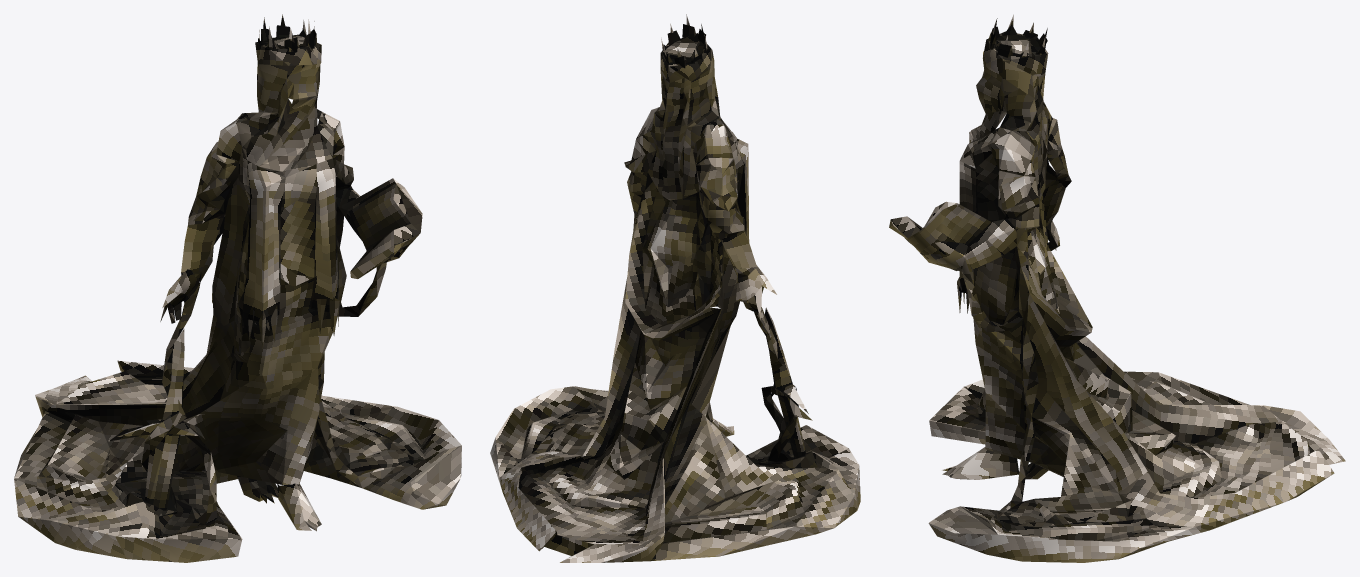
The model's file is gothic_statue.glb.
The picture shows the model from 3 angles, left to right: view 1: azimuth 30°, elevation 25°; view 2: azimuth 150°, elevation 25°; view 3: azimuth 270°, elevation 25°; orthographic projection. The views are drawn at different scales.
Parts seen in each view (by area): view 1: gothic_statue; view 2: gothic_statue; view 3: gothic_statue.
Boxes of the visible parts, box(x1,y1,x2,y2) form: gothic_statue: box(14, 14, 461, 562); gothic_statue: box(490, 14, 860, 562); gothic_statue: box(889, 14, 1345, 562).
Bounding box in the file's own units: 1.46 × 1.75 × 1.54.
Materials: 1 (1 with a texture image).
